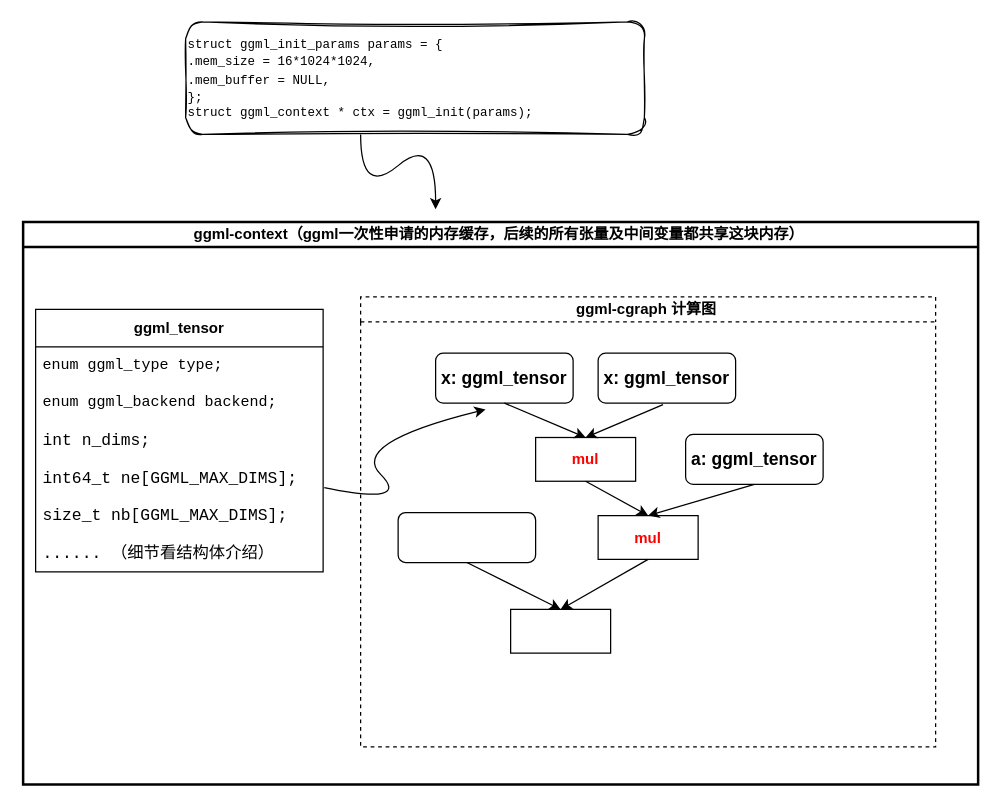
Image size: 1000x808. Some labels were removed from this diagram. The centre of each missing label's shape, as x and y in pixels:
add: the point at 560,630
b: ggml_tensor: the point at 466,536
